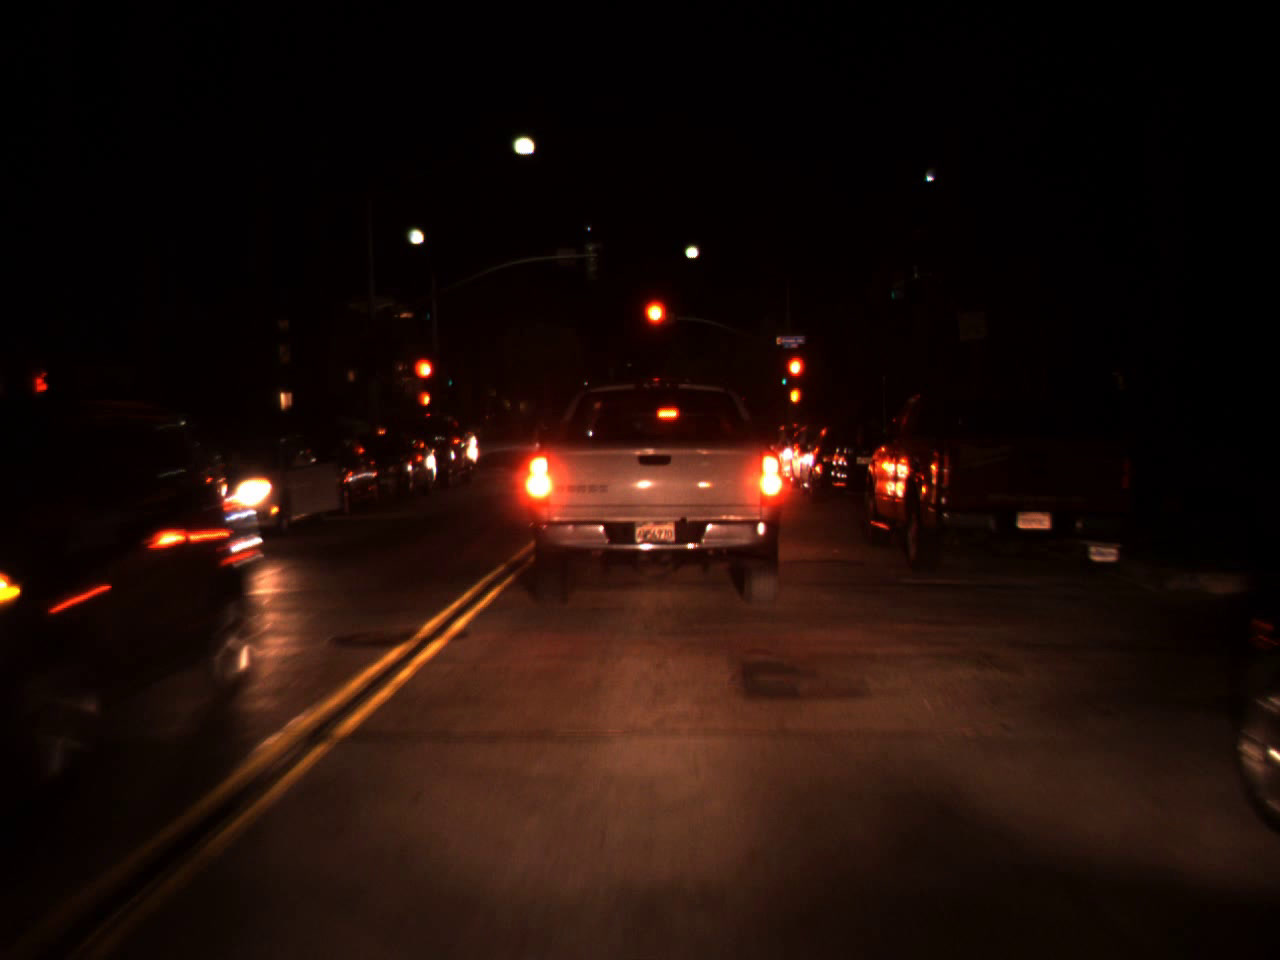stop: (641, 296, 669, 355), (784, 353, 808, 401), (412, 355, 436, 403)
